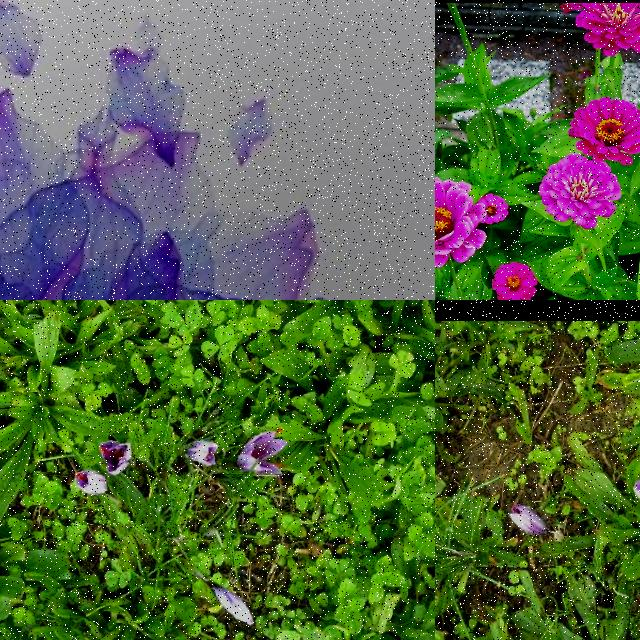flower: (237, 430, 290, 476), (212, 578, 254, 624), (510, 504, 550, 536), (100, 440, 132, 476), (186, 440, 218, 466), (74, 472, 108, 496)
